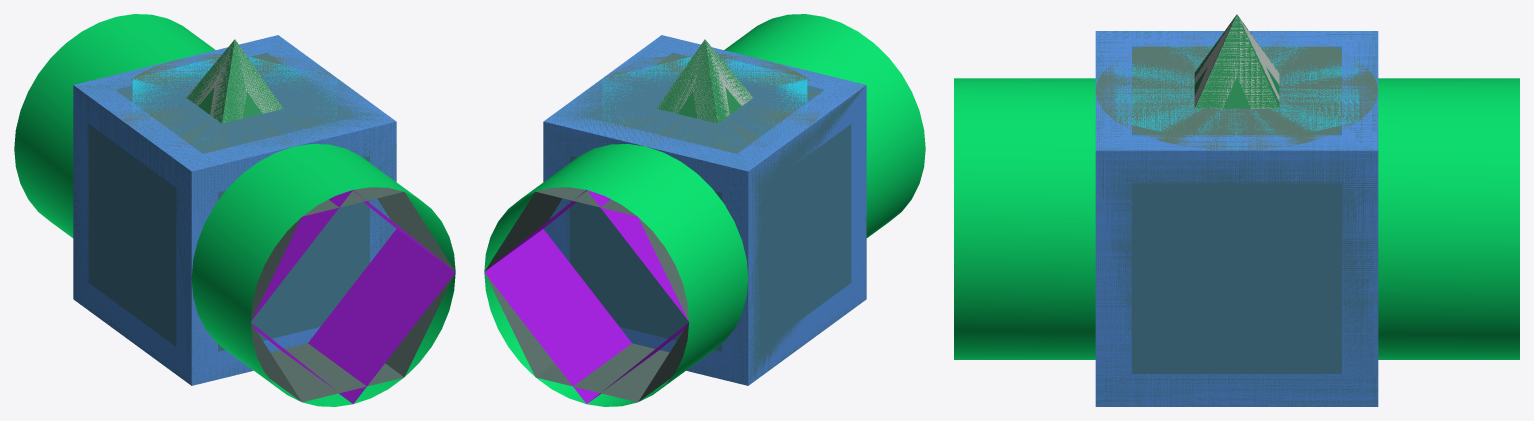
File: Shapes.fbx
The picture shows the model from 3 angles, left to right: view 1: azimuth 30°, elevation 25°; view 2: azimuth 150°, elevation 25°; view 3: azimuth 270°, elevation 25°; orthographic projection. The views are drawn at different scales.
Visible parts, largest first — view 1: Cube, Circle_Tube, Cube_Cutout, Square_Tube, Hexagon_Tube, Circle_Cylinder, Pyramid, Pyramid_Cutout, Hexagon_Cylinder; view 2: Cube, Circle_Tube, Cube_Cutout, Square_Tube, Hexagon_Tube, Circle_Cylinder, Pyramid, Hexagon_Cylinder, Pyramid_Cutout; view 3: Circle_Tube, Cube, Cube_Cutout, Circle_Cylinder, Hexagon_Cylinder, Pyramid, Pyramid_Cutout.
Part boxes in pixels (bbox=[...]): Cube: bbox=[73, 35, 396, 384]; Circle_Tube: bbox=[14, 14, 455, 406]; Cube_Cutout: bbox=[73, 35, 396, 385]; Square_Tube: bbox=[251, 190, 455, 403]; Hexagon_Tube: bbox=[251, 187, 455, 402]; Circle_Cylinder: bbox=[118, 53, 351, 151]; Pyramid: bbox=[186, 39, 282, 123]; Pyramid_Cutout: bbox=[187, 39, 281, 122]; Hexagon_Cylinder: bbox=[132, 57, 337, 141]; Cube: bbox=[543, 35, 866, 385]; Circle_Tube: bbox=[484, 14, 925, 406]; Cube_Cutout: bbox=[543, 35, 866, 385]; Square_Tube: bbox=[484, 190, 688, 403]; Hexagon_Tube: bbox=[484, 187, 688, 402]; Circle_Cylinder: bbox=[589, 53, 820, 151]; Pyramid: bbox=[657, 39, 752, 123]; Hexagon_Cylinder: bbox=[602, 57, 807, 146]; Pyramid_Cutout: bbox=[658, 40, 752, 123]; Circle_Tube: bbox=[954, 78, 1519, 359]; Cube: bbox=[1095, 31, 1378, 406]; Cube_Cutout: bbox=[1095, 31, 1378, 406]; Circle_Cylinder: bbox=[1095, 32, 1378, 150]; Hexagon_Cylinder: bbox=[1114, 36, 1359, 150]; Pyramid: bbox=[1194, 14, 1279, 108]; Pyramid_Cutout: bbox=[1194, 15, 1279, 108].
Size of the model in its own units: 100 by 130 by 200.
